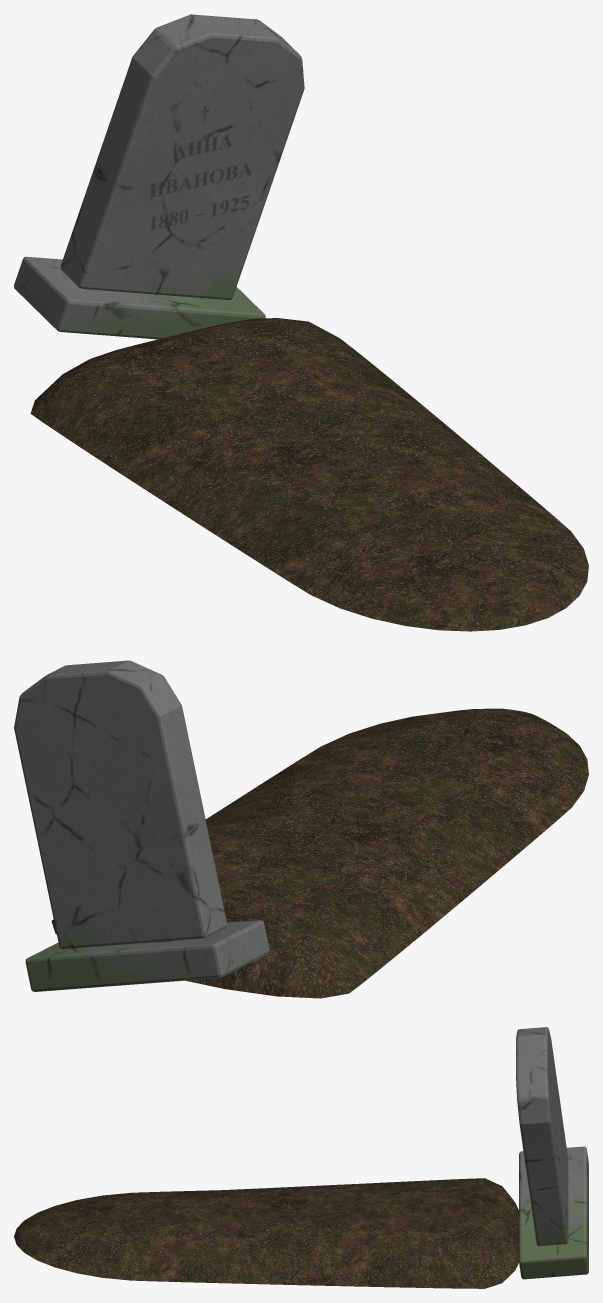
The model's file is gravestone_headstone_tilted_a.glb.
3 renders of one model, top to bottom at view 1: azimuth 30°, elevation 25°; view 2: azimuth 150°, elevation 25°; view 3: azimuth 270°, elevation 25°, orthographic. The views are drawn at different scales.
Parts seen in each view (by area): view 1: gravestone_headstone_tilted_a; view 2: gravestone_headstone_tilted_a; view 3: gravestone_headstone_tilted_a.
Boxes of the visible parts, box(x1,y1,x2,y2) form: gravestone_headstone_tilted_a: box(14, 14, 588, 631); gravestone_headstone_tilted_a: box(14, 660, 588, 998); gravestone_headstone_tilted_a: box(14, 1027, 588, 1288).
Bounding box in the file's own units: 1.16 × 1.19 × 2.7.
Materials: 2 (2 with a texture image).
